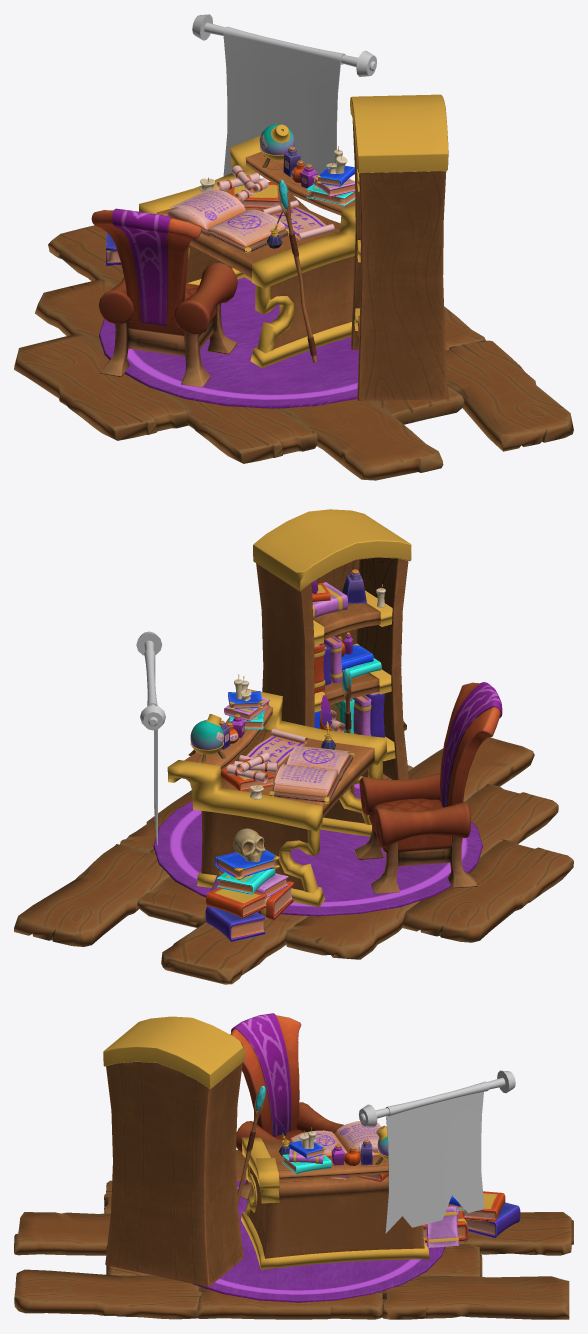
File: tutto.obj
The picture shows the model from 3 angles, top to bottom: view 1: azimuth 30°, elevation 25°; view 2: azimuth 150°, elevation 25°; view 3: azimuth 270°, elevation 25°; orthographic projection. The views are drawn at different scales.
Parts seen in each view (by area): view 1: tutto, textureEditorIsolateSelectSet tutto; view 2: tutto, textureEditorIsolateSelectSet tutto; view 3: tutto, textureEditorIsolateSelectSet tutto.
Boxes of the visible parts, x1,y1,x2,y2 form: tutto: [14, 94, 573, 480]; textureEditorIsolateSelectSet tutto: [192, 14, 376, 362]; tutto: [14, 509, 573, 984]; textureEditorIsolateSelectSet tutto: [136, 631, 355, 845]; tutto: [14, 1013, 573, 1319]; textureEditorIsolateSelectSet tutto: [237, 1070, 515, 1233].
Bounding box in the file's own units: 3.21 × 2.32 × 4.8.
